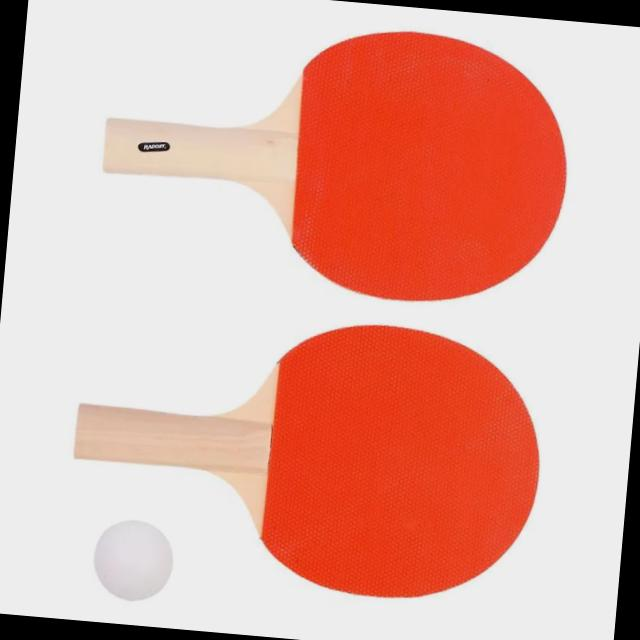TT Racket: (182, 299, 558, 615), (215, 8, 583, 316)
